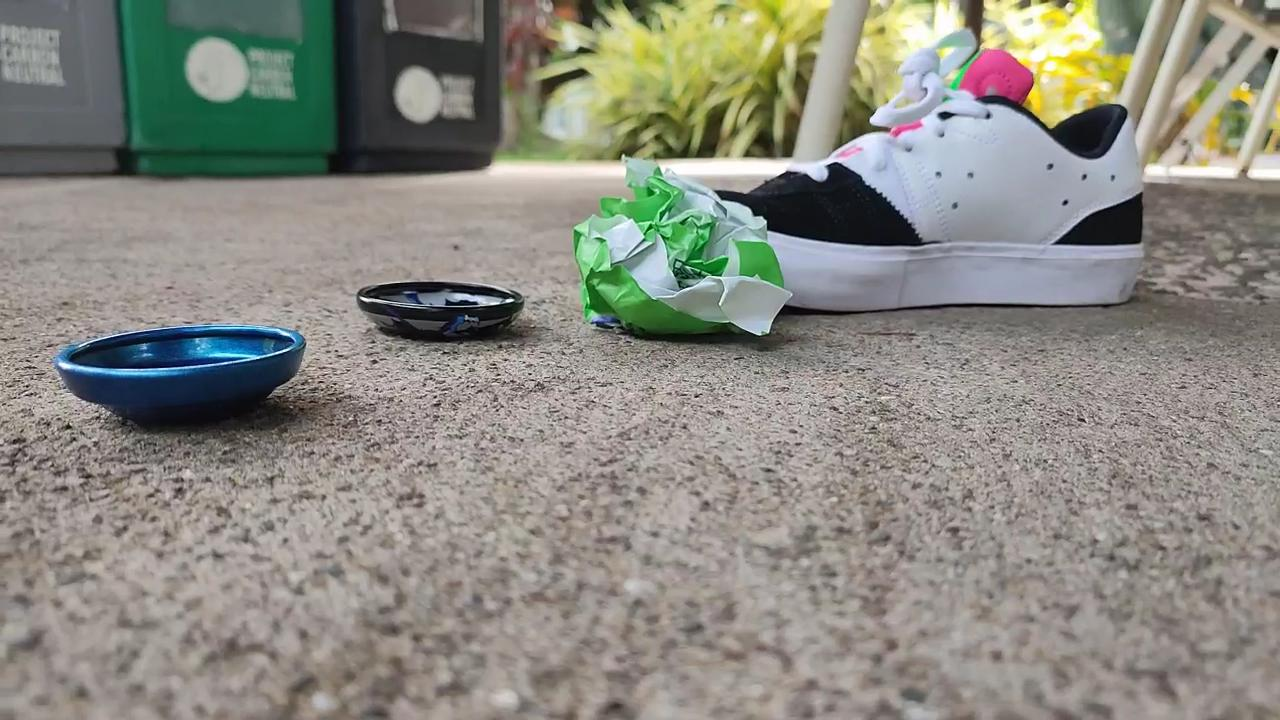Paper: (566, 145, 812, 366)
